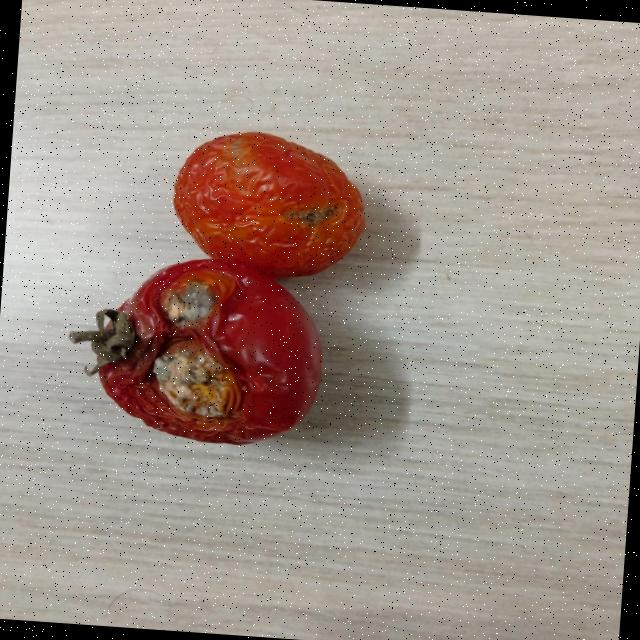Rotten: (87, 247, 332, 450)
